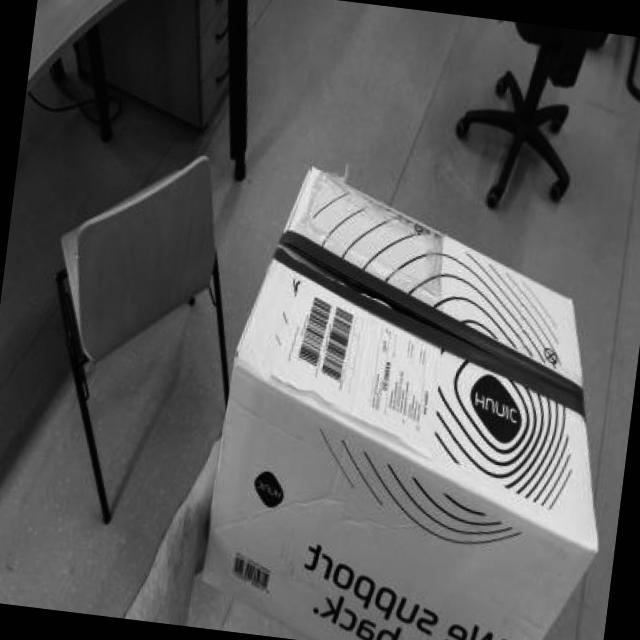box: (124, 132, 640, 640)
